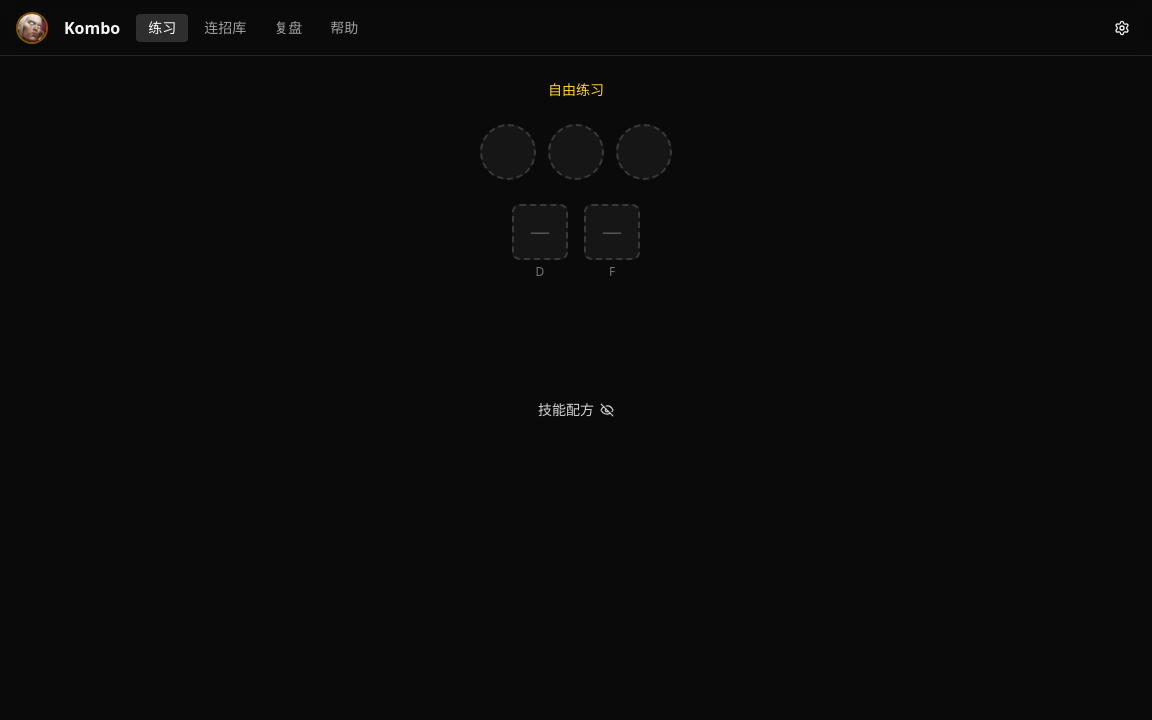
Test: App — 视图路由 + i18n › DOTA1 图标时键位锁定 LEGACY
This screenshot has width=1152, height=720.
# 打开齿轮设置面板
Click the button named "设置" at (1122, 28), box 1108,14 -> 1136,42
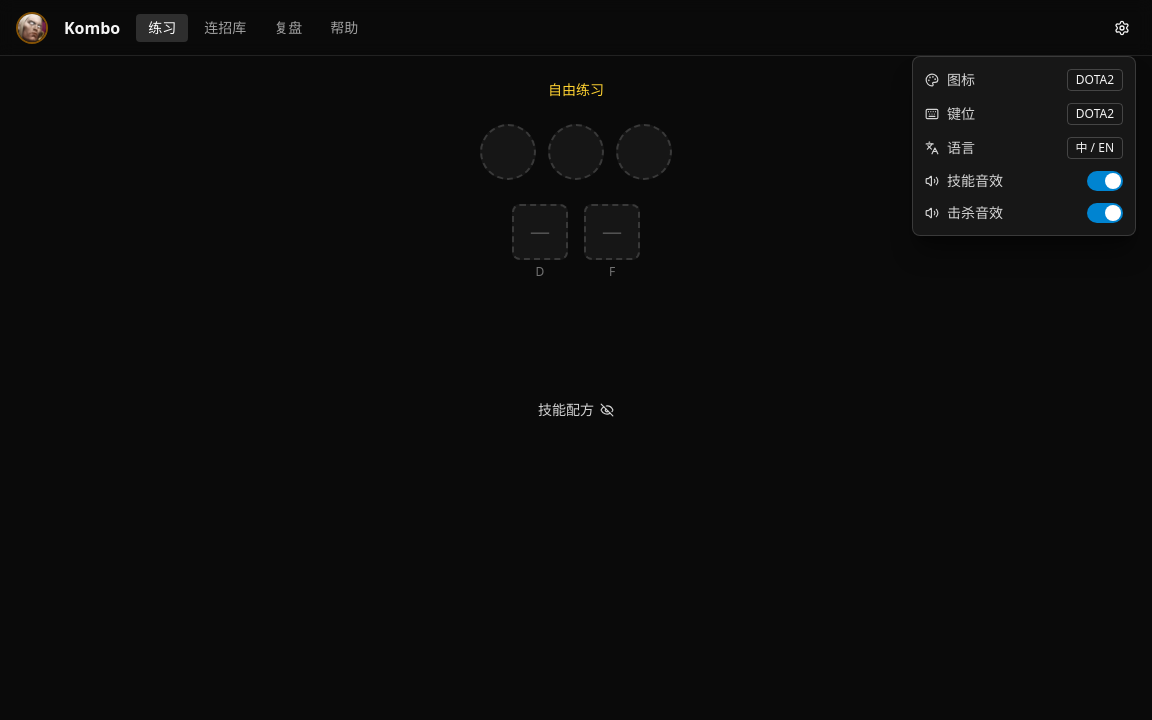
Click the button with aria-label "图标" at (1095, 80), box 1067,69 -> 1123,91
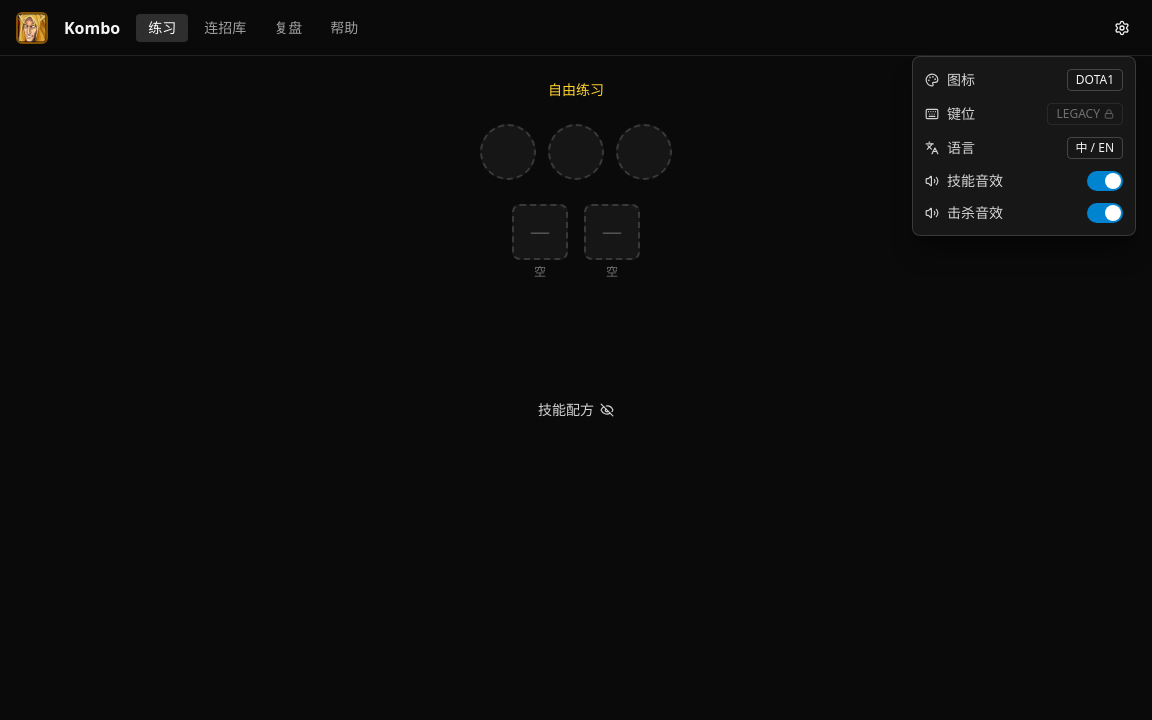
Result: the button with aria-label "键位" is disabled at 1048,103 -> 1123,125
